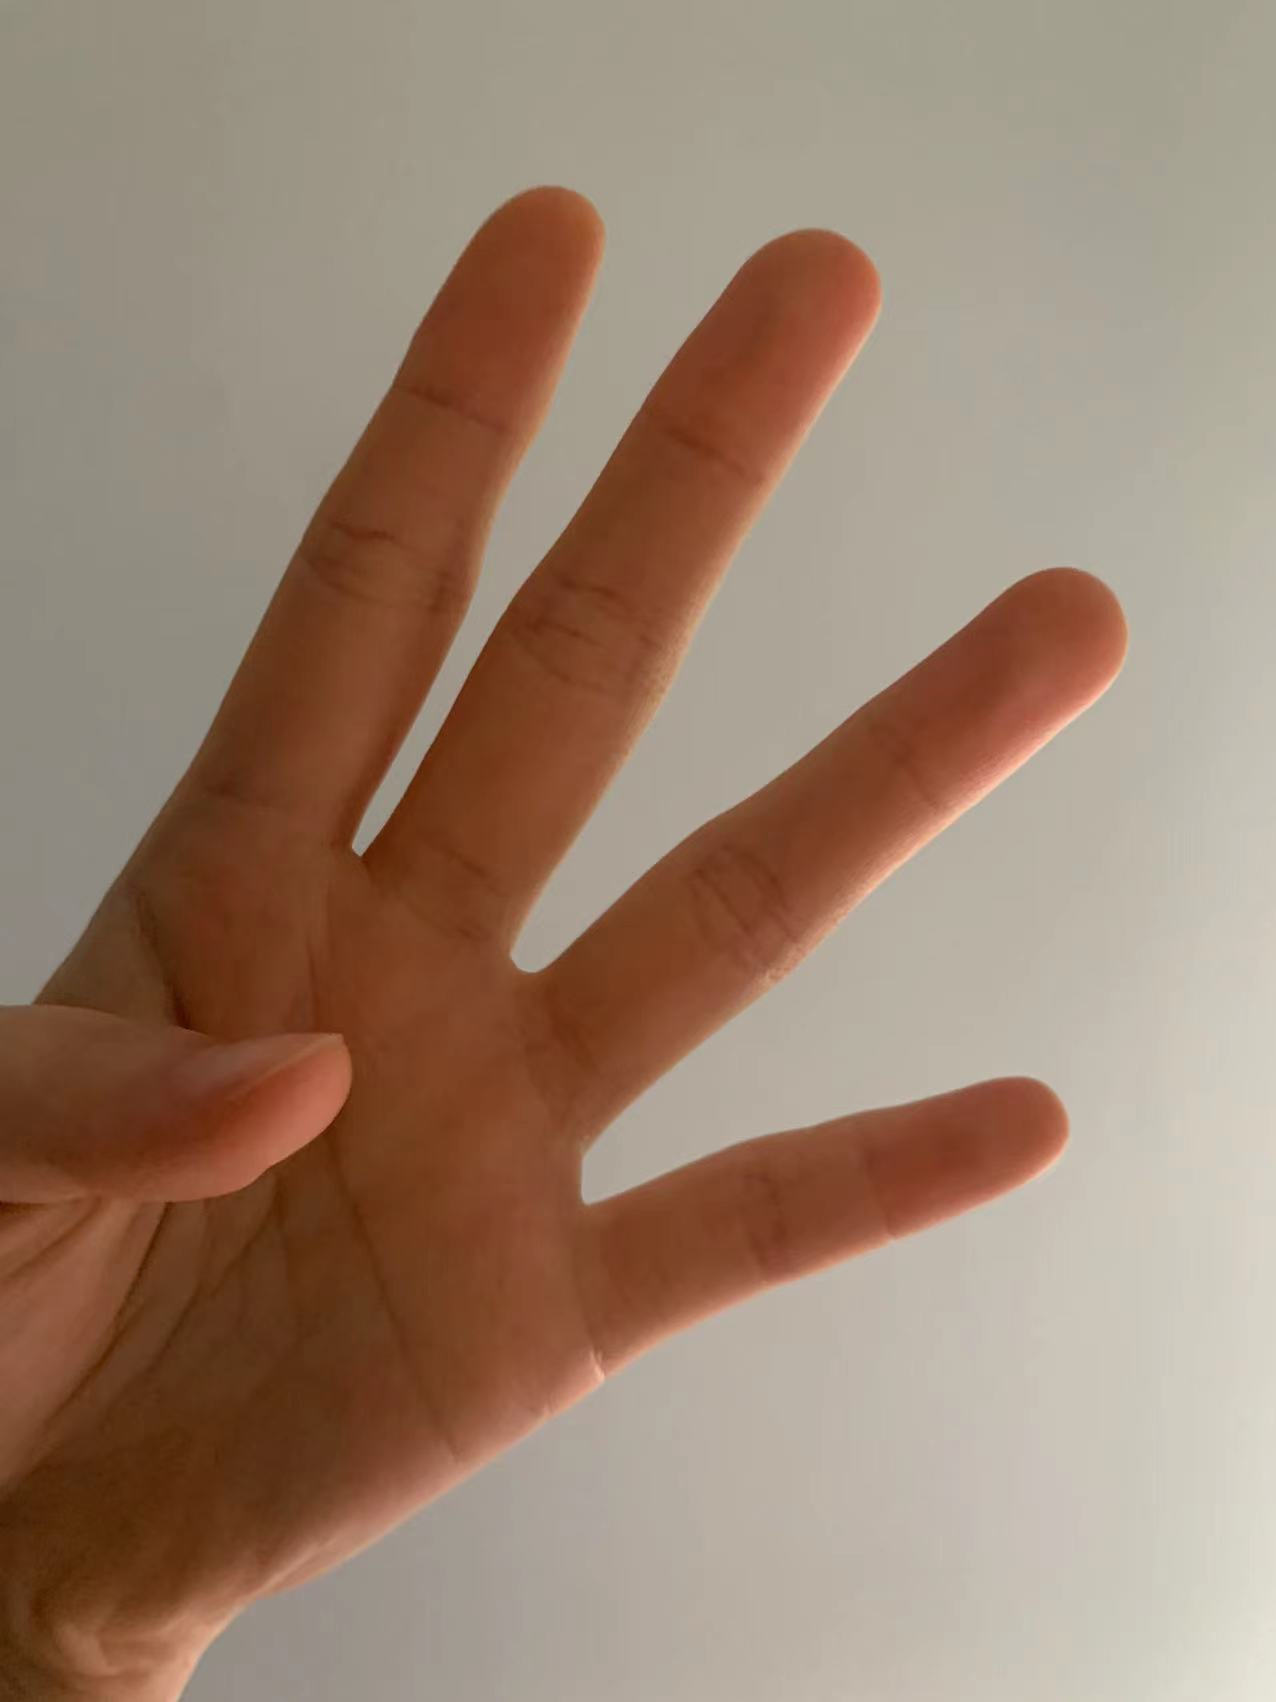right: (21, 158, 1154, 1652)
